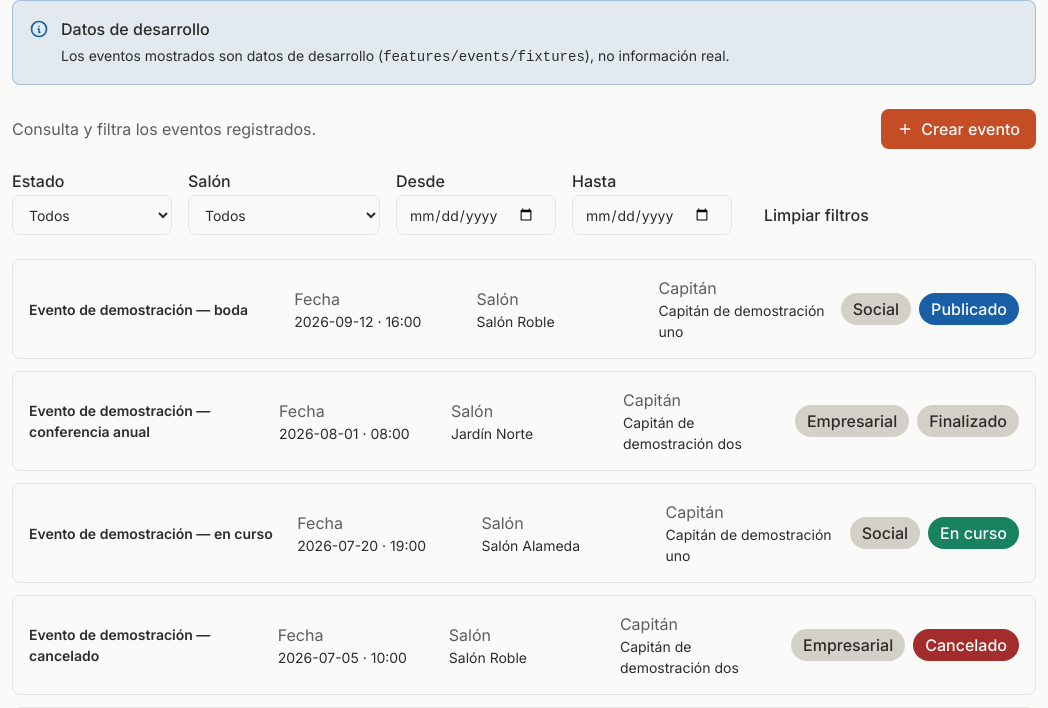
it: EventsPage › shows the empty state when the user's own filters match zero events — a real, filter-driven outcome
Select "Cancelado" in the dropdown labelled "Estado": [92, 215] box 12,195 -> 172,235
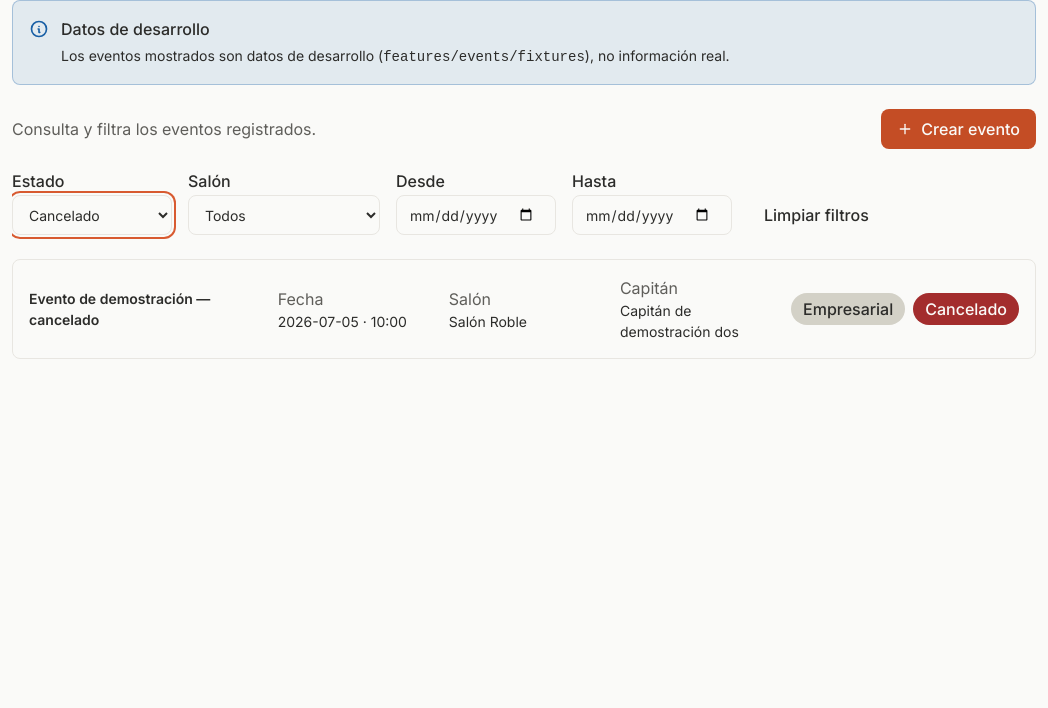
Select "Jardín Norte" in the dropdown labelled "Salón": [284, 215] box 188,195 -> 380,235
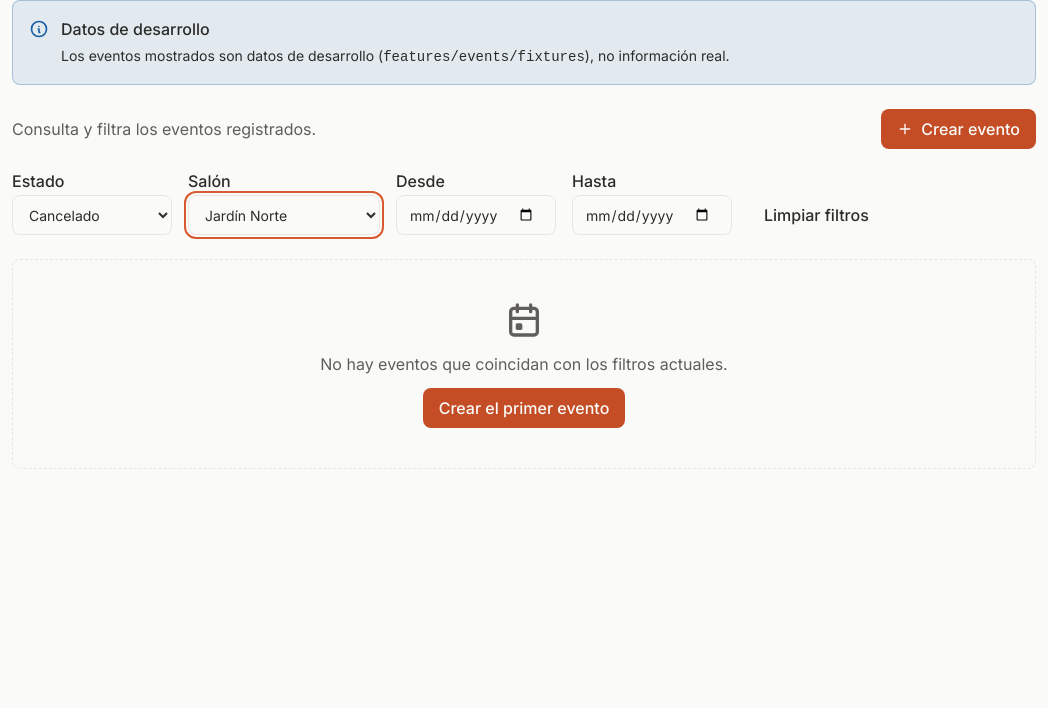
Expected: the text "No hay eventos que coincidan con los filtros actuales." is shown, 320,352 -> 728,376
